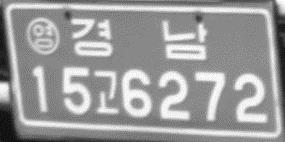1: (29, 62, 52, 113)
2: (232, 70, 271, 125), (157, 68, 192, 121)
5: (61, 61, 92, 116)
6: (120, 66, 153, 120)
7: (192, 67, 227, 124)
경남_D: (67, 16, 209, 62)
고: (91, 68, 119, 115)
영: (24, 15, 61, 57)
